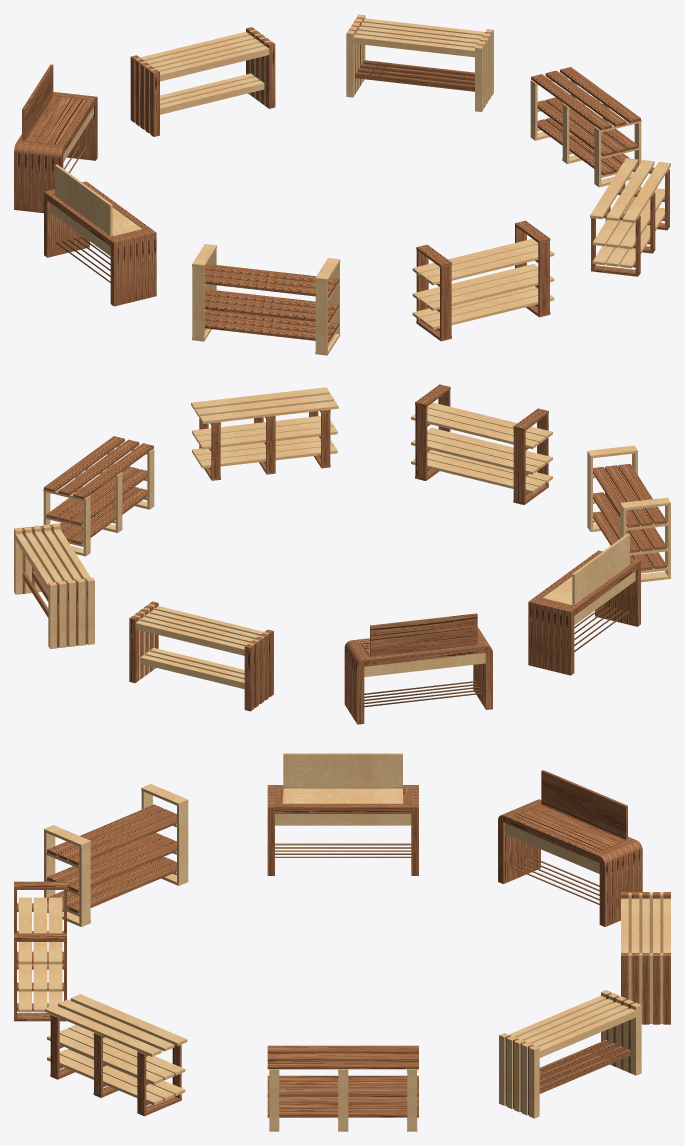
The model's file is Banco sapateira AR.gltf.
3 views of the same model, one above another, from view 1: azimuth 30°, elevation 25°; view 2: azimuth 150°, elevation 25°; view 3: azimuth 270°, elevation 25° (orthographic). The views are drawn at different scales.
Parts seen in each view (by area): view 1: Tampo aberto.001, tampo fechado.002, pontalete5x5.032, Tampo aberto, pontalete5x5.014, pontalete5x5.015, Cube.008, Cube.009, Cube.010, Cube.052, Cube.055, Cube.058 (+52 smaller); view 2: Tampo aberto, Tampo aberto.001, Cube.128, Cube.112, pontalete.027, pontalete5x5.012, Cube.113, Cube.114, pontalete5x5.016, Cube.008, Cube.010, Cube.009 (+50 smaller); view 3: Tampo aberto.001, Tampo aberto, tampo fechado.002, tampo fechado, Cube.124, pontalete.009, Cube.009, Cube.010, Cube.112, Cube.113, Cube.114, Cube.008 (+47 smaller).
Part boxes in pixels (left/top/right/bottom): Tampo aberto.001: left=55, top=164, right=112, bottom=235; tampo fechado.002: left=25, top=96, right=86, bottom=144; pontalete5x5.032: left=353, top=34, right=474, bottom=57; Tampo aberto: left=22, top=64, right=53, bottom=140; pontalete5x5.014: left=160, top=46, right=269, bottom=81; pontalete5x5.015: left=160, top=80, right=264, bottom=114; Cube.008: left=545, top=70, right=626, bottom=126; Cube.009: left=560, top=67, right=640, bottom=123; Cube.010: left=531, top=74, right=611, bottom=130; Cube.052: left=204, top=301, right=331, bottom=323; Cube.055: left=204, top=320, right=331, bottom=342; Cube.058: left=204, top=276, right=331, bottom=297; Tampo aberto: left=370, top=613, right=477, bottom=656; Tampo aberto.001: left=572, top=533, right=629, bottom=604; Cube.128: left=364, top=653, right=485, bottom=676; Cube.112: left=199, top=401, right=338, bottom=423; pontalete.027: left=362, top=643, right=485, bottom=666; pontalete5x5.012: left=135, top=620, right=244, bottom=655; Cube.113: left=191, top=387, right=329, bottom=410; Cube.114: left=195, top=394, right=334, bottom=416; pontalete5x5.016: left=140, top=655, right=244, bottom=689; Cube.008: left=58, top=439, right=139, bottom=495; Cube.010: left=73, top=443, right=153, bottom=499; Cube.009: left=44, top=436, right=124, bottom=492; Tampo aberto.001: left=283, top=753, right=402, bottom=787; Tampo aberto: left=541, top=770, right=627, bottom=839; tampo fechado.002: left=515, top=805, right=625, bottom=851; tampo fechado: left=283, top=788, right=402, bottom=803; Cube.124: left=275, top=814, right=411, bottom=825; pontalete.009: left=275, top=804, right=411, bottom=813; Cube.009: left=267, top=1061, right=418, bottom=1069; Cube.010: left=267, top=1045, right=418, bottom=1053; Cube.112: left=70, top=994, right=187, bottom=1045; Cube.113: left=45, top=1005, right=161, bottom=1056; Cube.114: left=58, top=999, right=174, bottom=1051; Cube.008: left=267, top=1053, right=418, bottom=1060.
Size of the model in its own units: 4.35 by 0.745 by 4.34.
3 materials, 3 textured.
